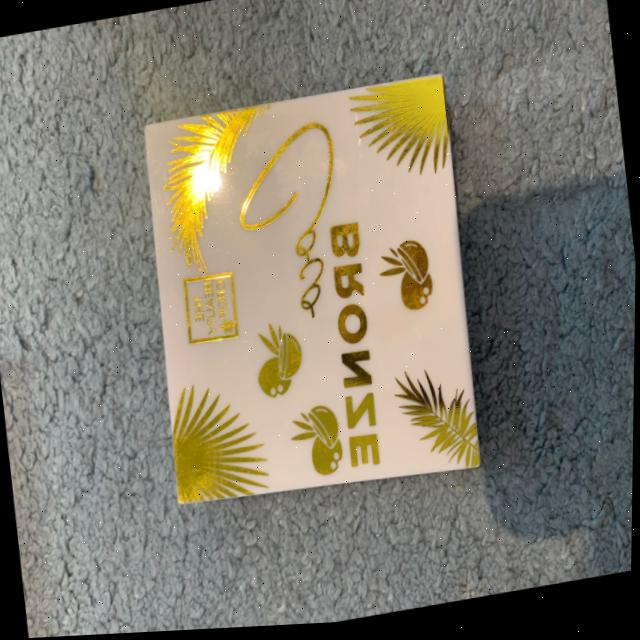bronzer: (87, 41, 526, 555)
